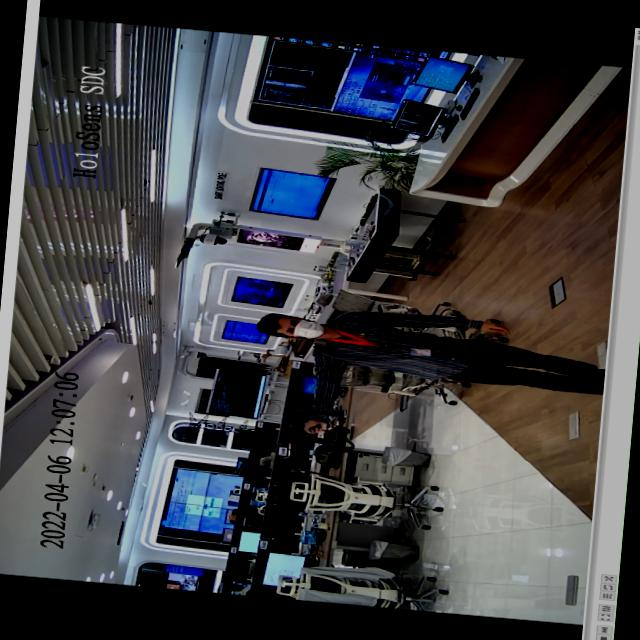long weapon: (272, 386, 351, 480)
